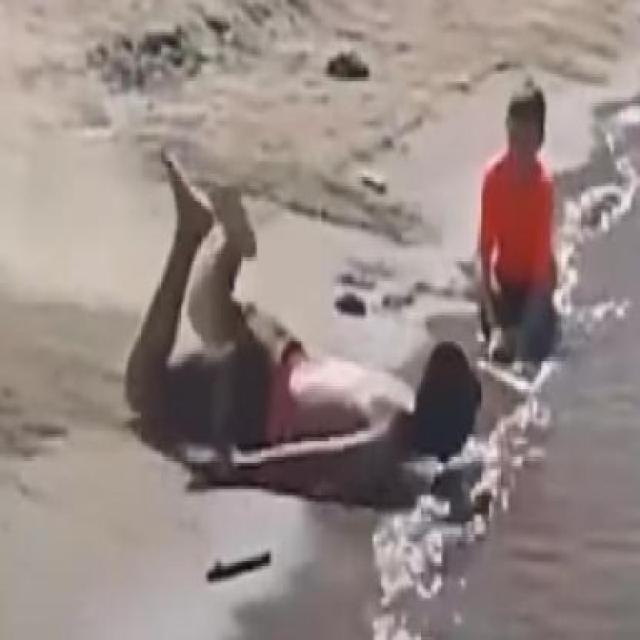fall: (130, 144, 478, 524)
